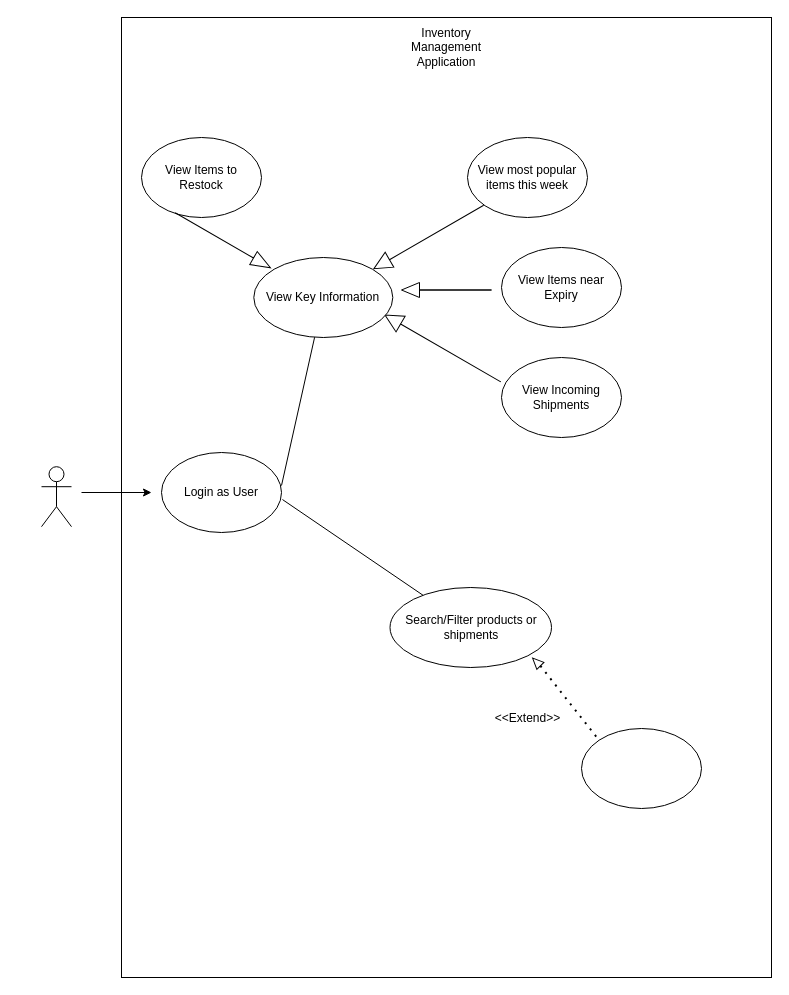
Some shapes in this 789 by 995 pixel diagram are drawn without their labels. The centre of each missing label's shape, as x and y in pixels:
"Store Manager" belongs at pixel 56 496.
"View and Edit information" belongs at pixel 641 768.
